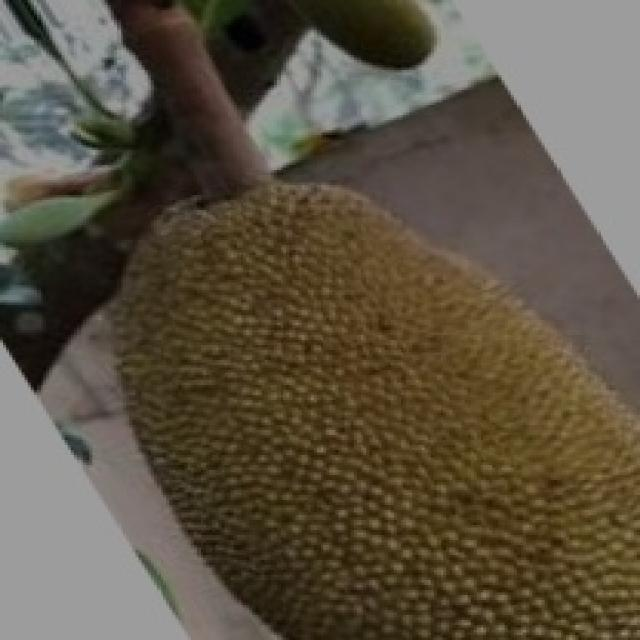Fruit: (261, 250, 640, 637), (237, 0, 461, 95)
